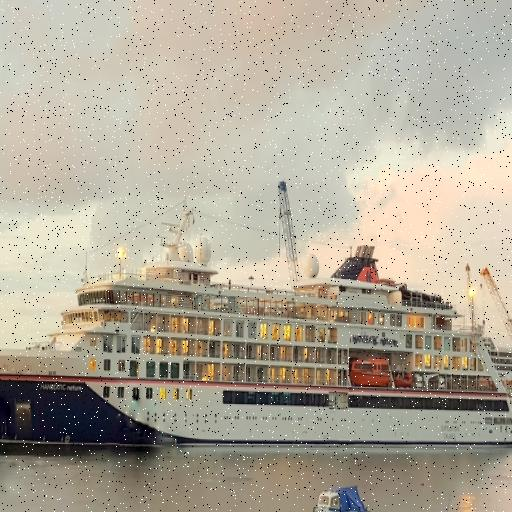cruises: (1, 199, 512, 456)
